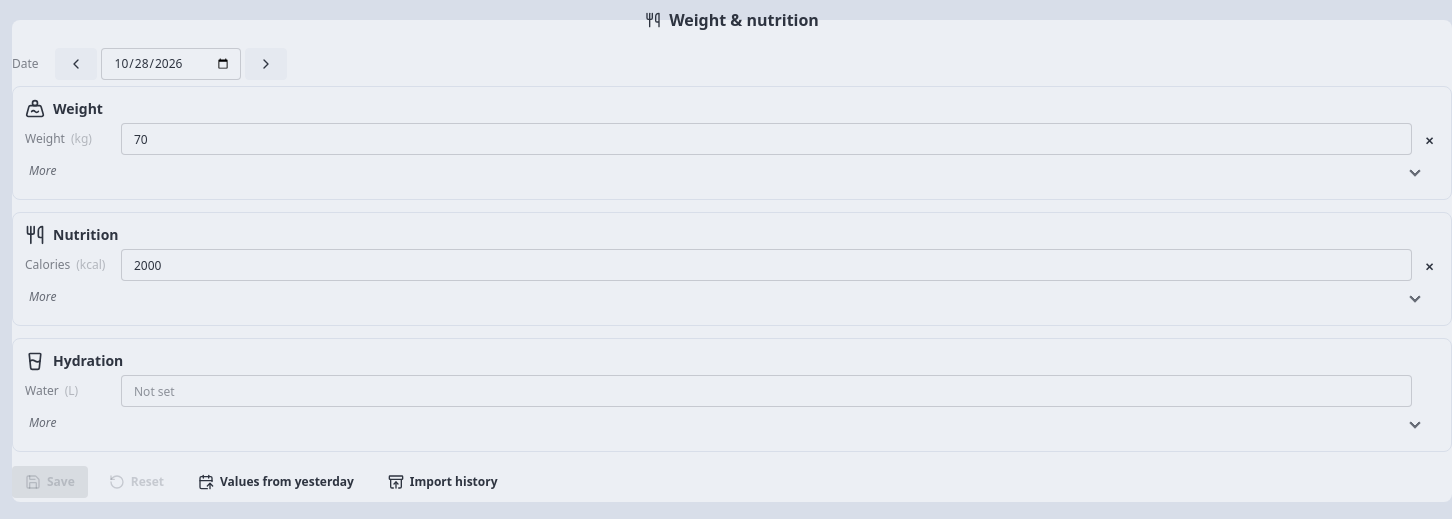
Test: WeightAndNutritionForm › clears a single measure without touching the others
Expected: the number field labelled "Weight (kg)" is shown, left=121, top=123, right=1412, bottom=155
Click the button named "Clear Weight". click: (1429, 141)
box: left=1420, top=129, right=1439, bottom=153
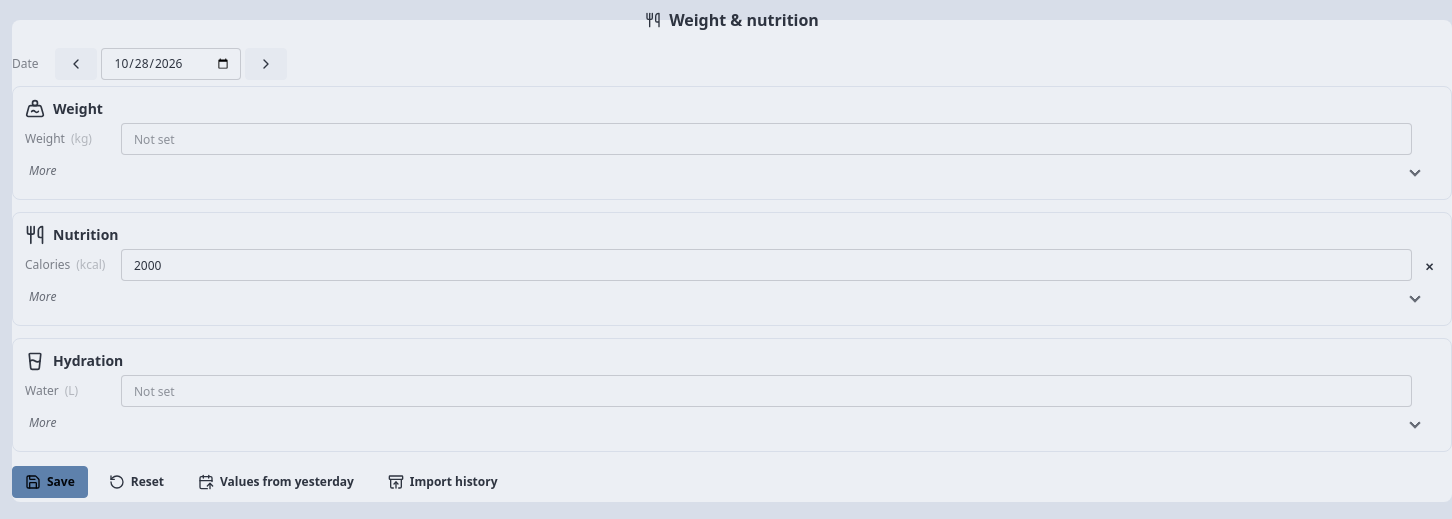
Expected: the number field labelled "Weight (kg)" is empty, left=121, top=123, right=1412, bottom=155
